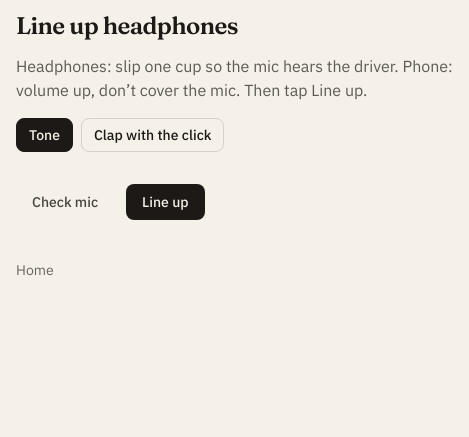
Test: CalibrationPage › says the mic is silent when measurement fails and getLevel stays at 0
Click the button "Line up" at (165, 202), box top-left (126, 184), bottom-right (205, 220)
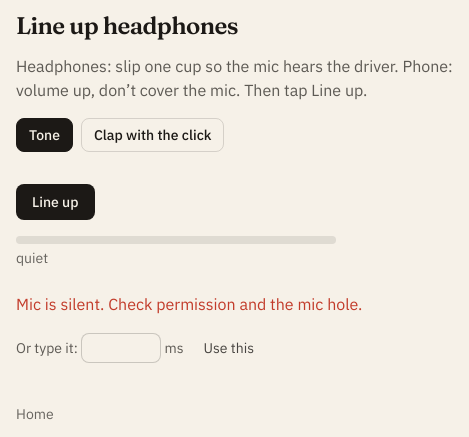
Now the message shows "Mic is silent", box top-left (16, 294), bottom-right (362, 314)
Now the number field labelled "Or type it: ms" is shown, box top-left (81, 333), bottom-right (161, 363)
